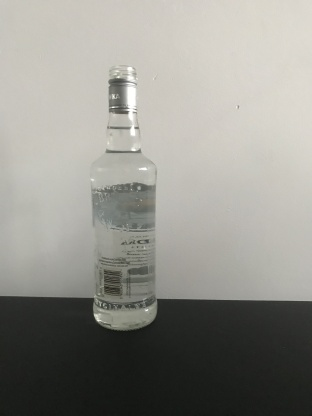nakretka: (105, 63, 139, 115)
